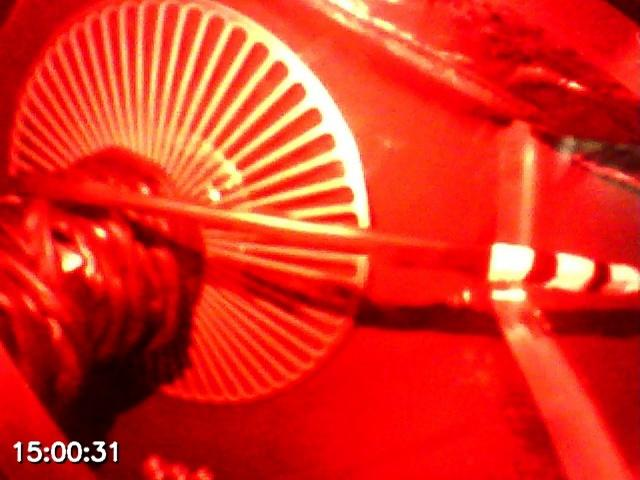white-dots: (487, 243, 640, 298)
